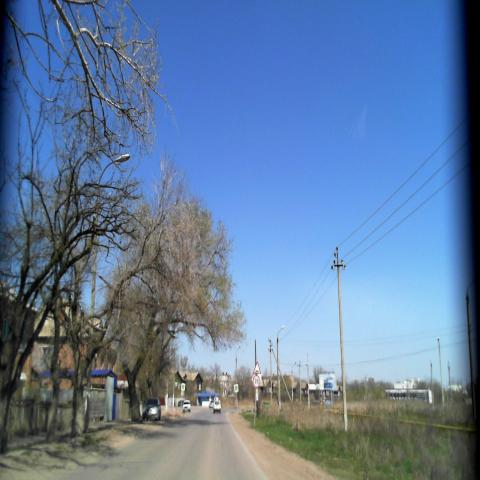1_17: (253, 361, 260, 374)
